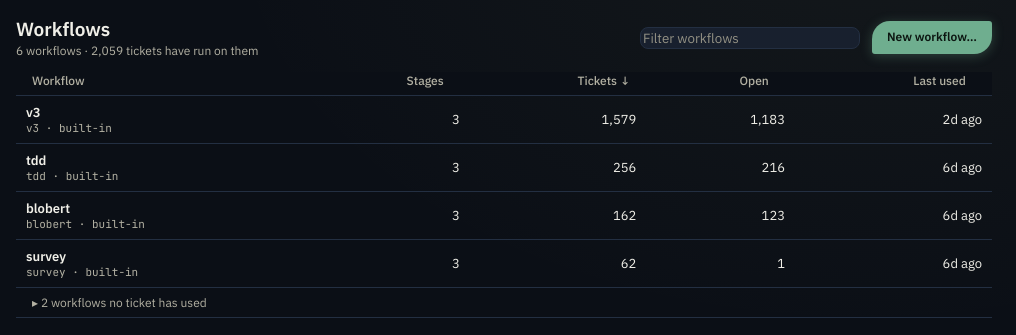
it: WorkflowIndex › folds nothing while filtering, so a search by name finds an unused one
This screenshot has width=1016, height=335.
Type "unused-a" into the search field labelled "Filter workflows" at [750, 38], box x1=640 y1=26 x2=860 y2=48
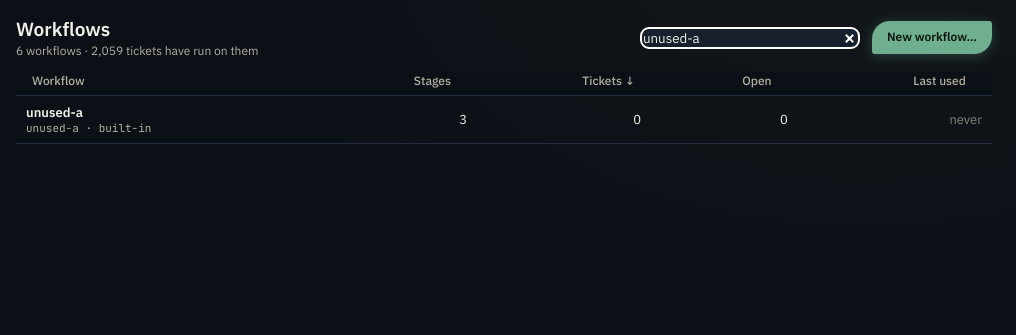
Expected: the button "no ticket has used" is gone
